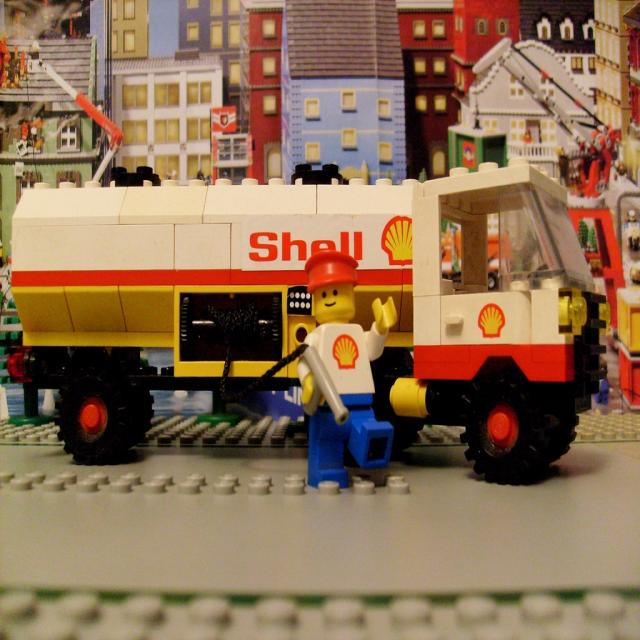shell: (380, 215, 415, 265), (477, 302, 508, 343), (332, 337, 360, 372)
